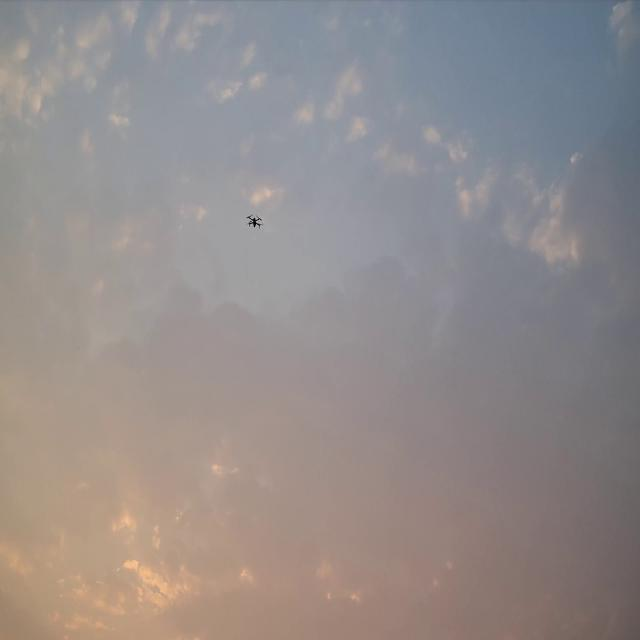UAV: (245, 213, 264, 229)
